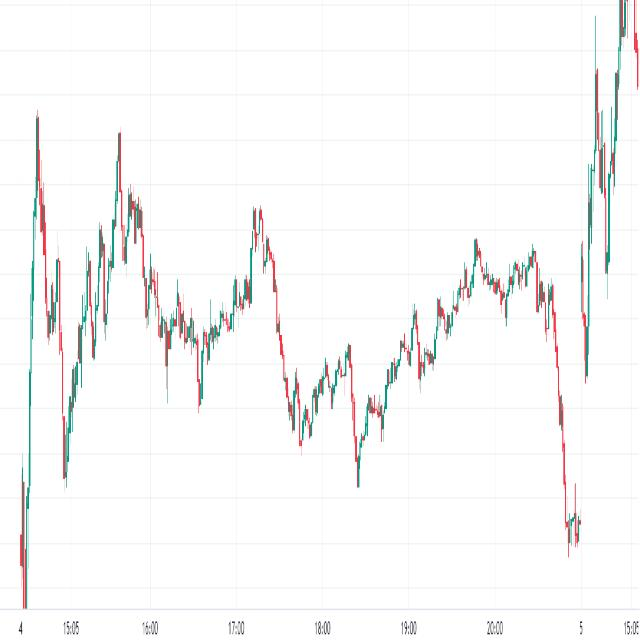Rising-Wedge: (345, 230, 484, 519), (277, 336, 356, 475)
Triangle: (37, 8, 200, 519)
